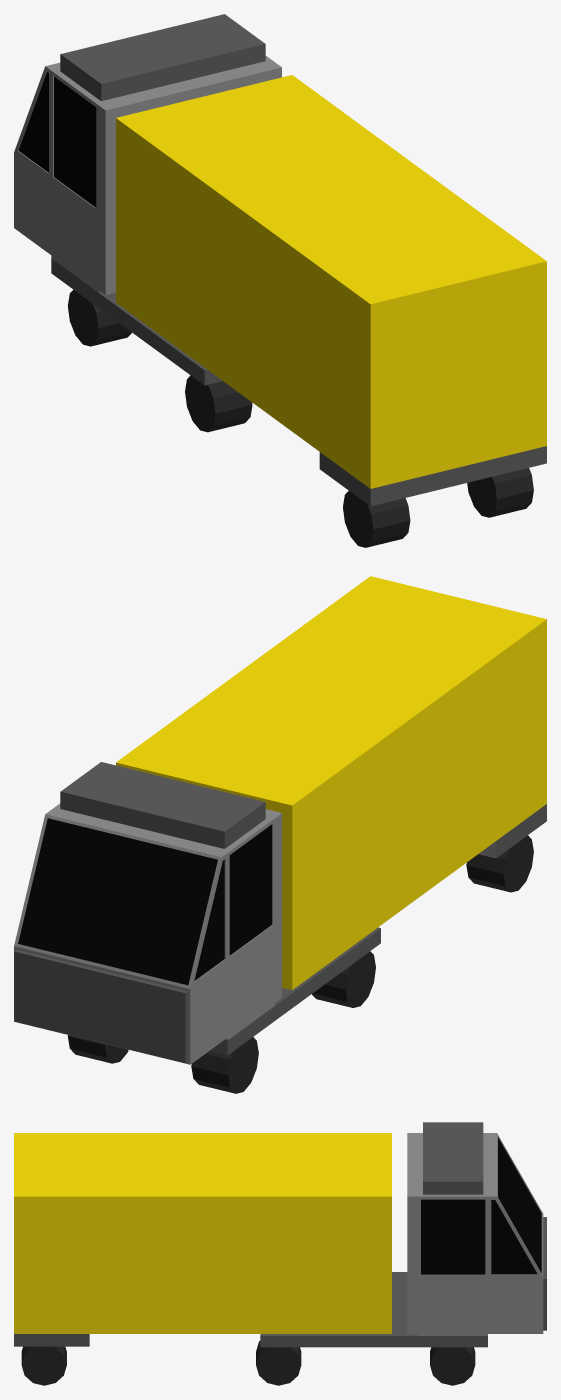
File: Camión_Low_Poly.fbx
3 renders of one model, top to bottom at view 1: azimuth 30°, elevation 25°; view 2: azimuth 150°, elevation 25°; view 3: azimuth 270°, elevation 25°, orthographic. The views are drawn at different scales.
Parts seen in each view (by area): view 1: Cube.001; view 2: Cube.001; view 3: Cube.001.
Boxes of the visible parts, x1,y1,x2,y2 form: Cube.001: (14, 14, 546, 547); Cube.001: (14, 576, 546, 1093); Cube.001: (14, 1122, 546, 1385).
Size of the model in its own units: 200 by 299 by 705.
